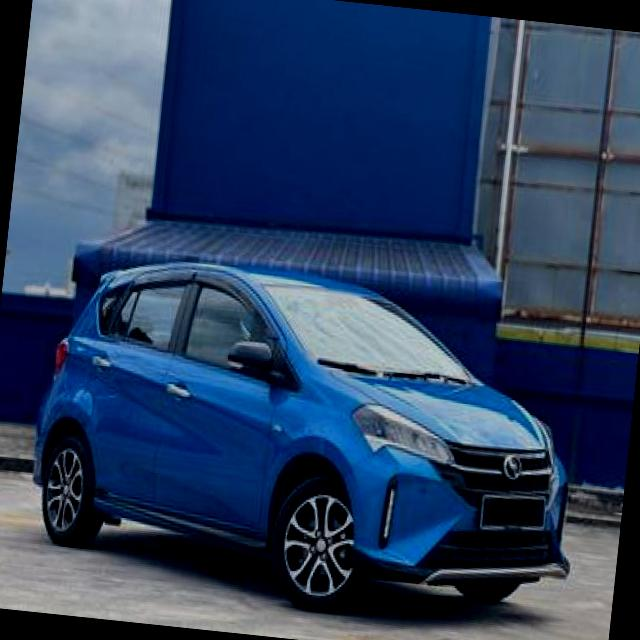PeroduaMyvi: (18, 242, 600, 636)
